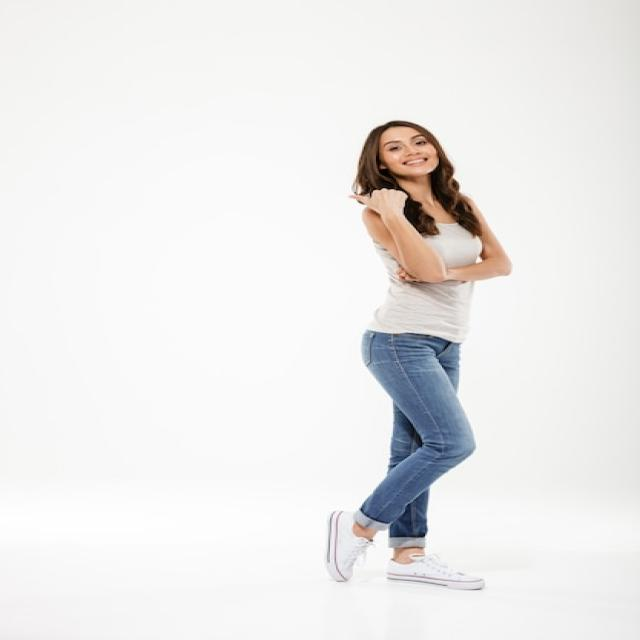Person: (326, 119, 512, 593)
